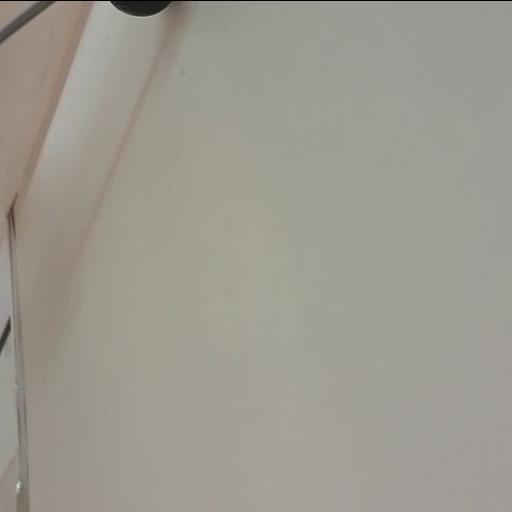dead: (102, 0, 176, 16)
